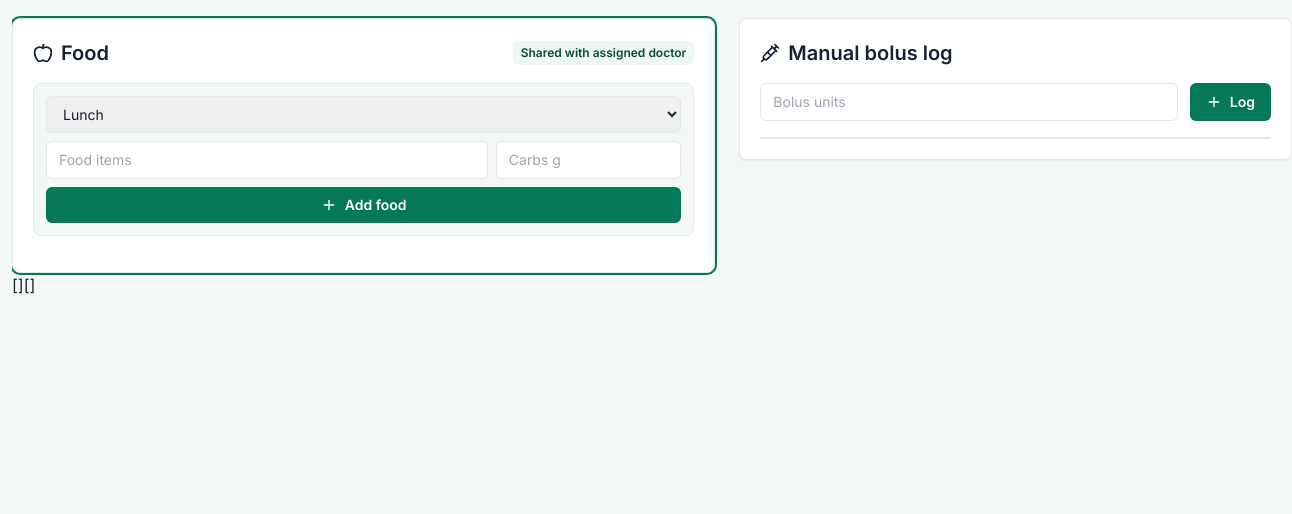
Test: Food Log route renders only the two log sections before and after new entries
The width and height of the screenshot is (1292, 514).
expect the heading "Food" is shown: met, box [33, 39, 109, 67]
expect the heading "Manual bolus log" is shown: met, box [760, 41, 953, 65]
Type "Rice and chicken" into the field with placeholder "Food items" at [267, 160], box [46, 141, 488, 179]
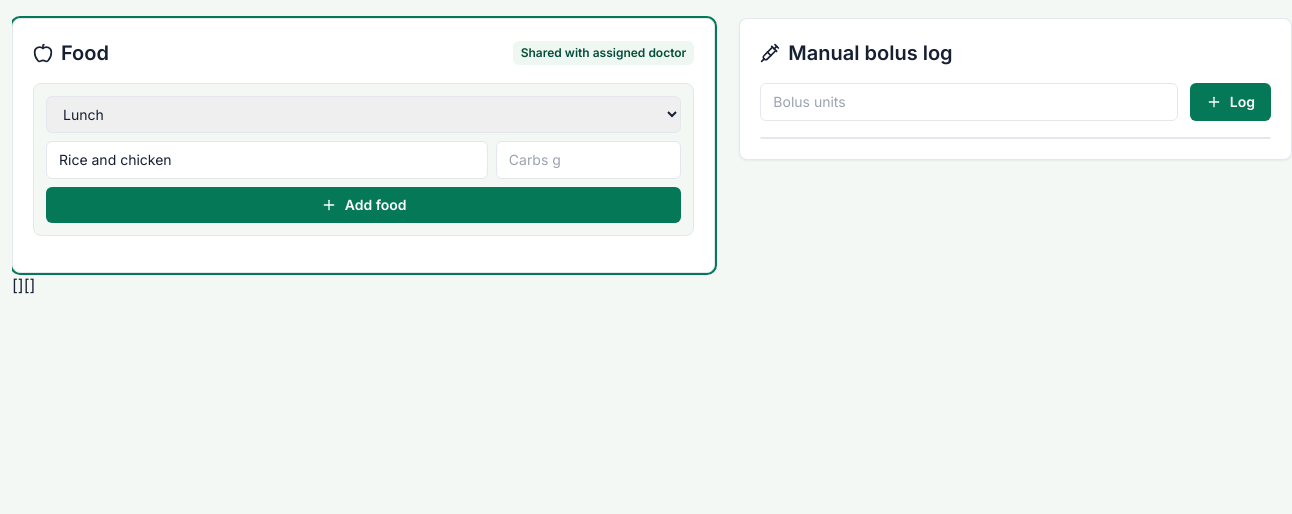
Type "45" into the field named "Carbohydrates in grams" at [589, 160], box [496, 141, 681, 179]
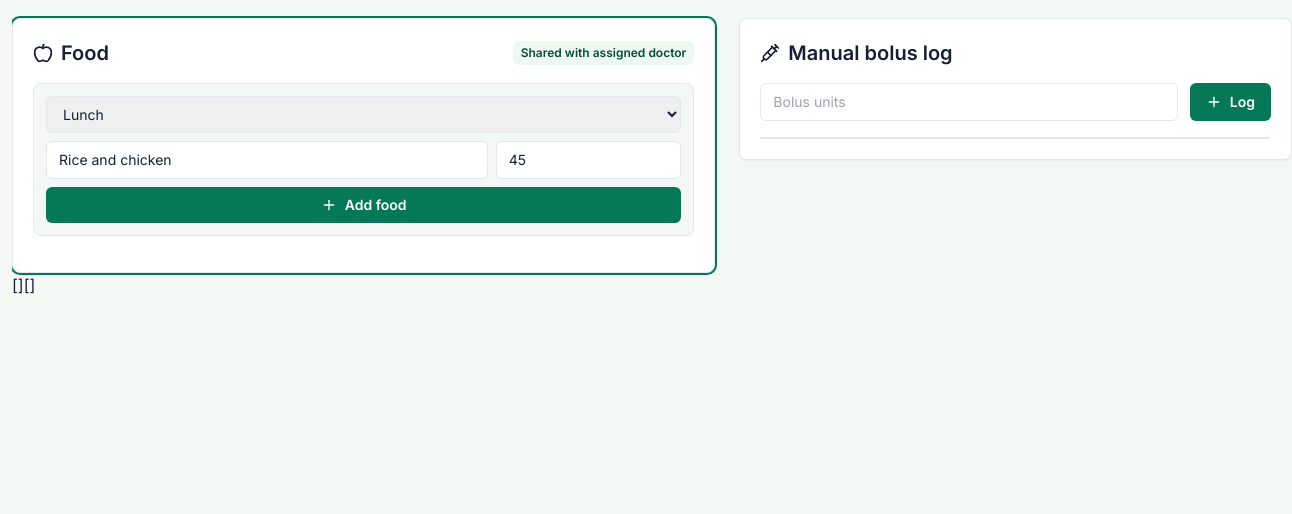
Click the button "Add food" at [364, 205], box [46, 187, 681, 223]
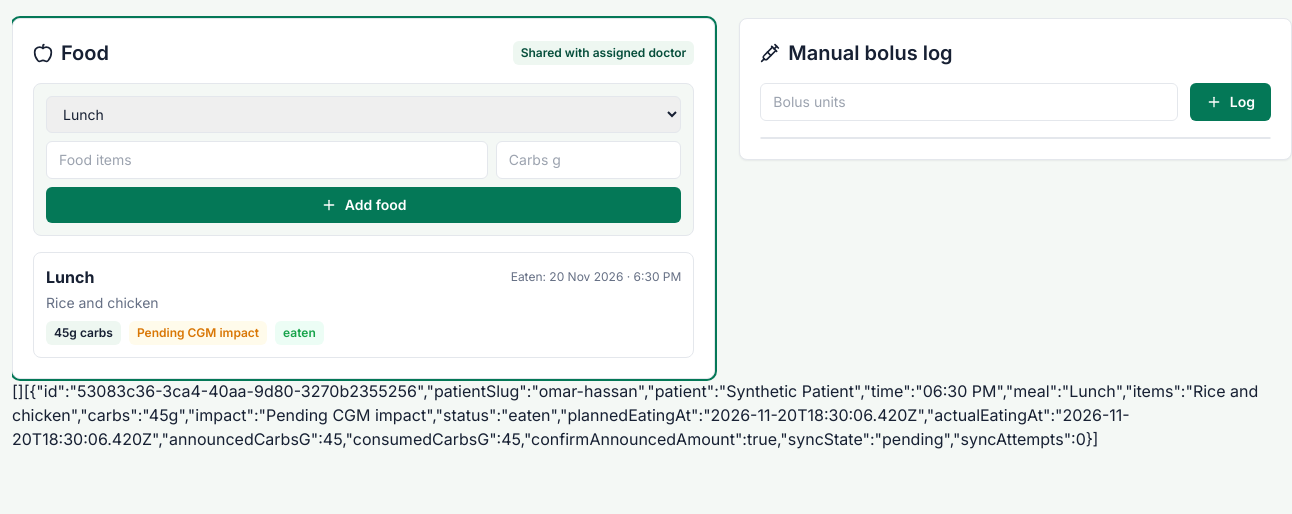
Type "3" into the field labelled "Bolus units" at [969, 102], box [760, 83, 1178, 121]
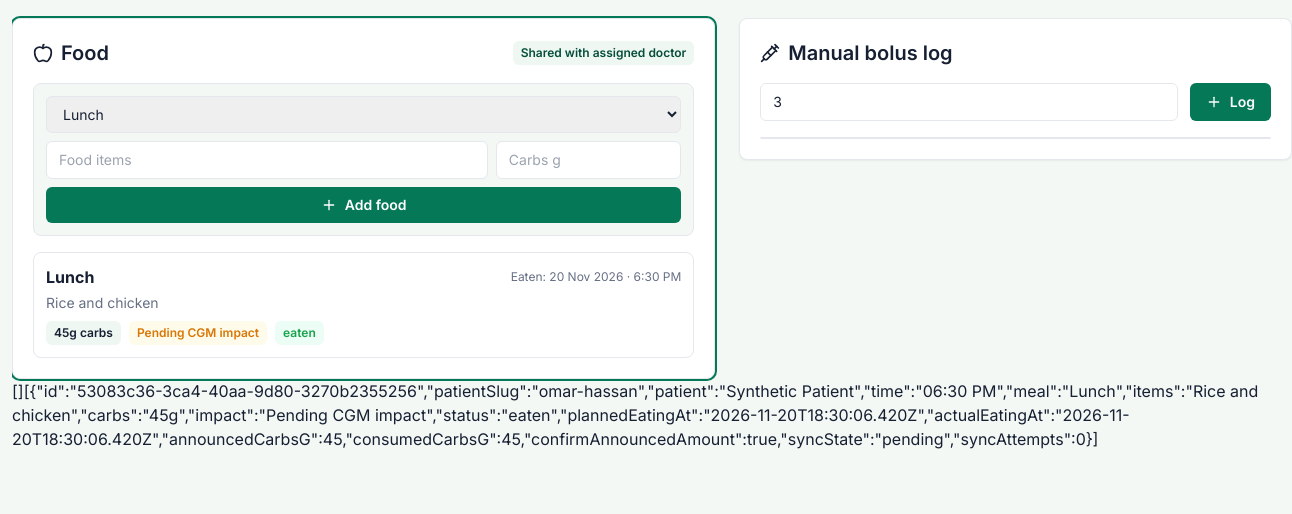
Click the button "Log" at [1230, 102], box [1190, 83, 1271, 121]
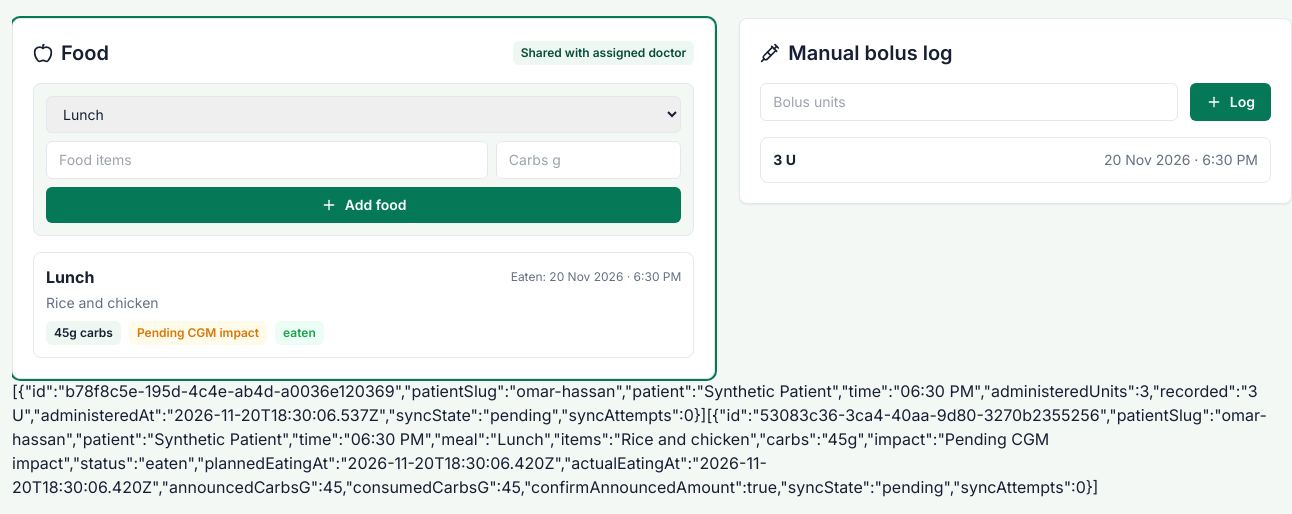
expect the number of elements with class "surface" is 2: met, box [12, 18, 715, 379]; [739, 18, 1291, 204]
expect the text "Rice and chicken" is shown: met, box [46, 294, 159, 311]
expect the text "3 U" is shown: met, box [773, 150, 796, 170]
